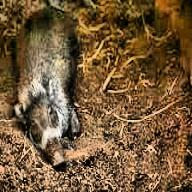boar: (9, 14, 86, 168)
